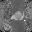people: (10, 10, 24, 21)
